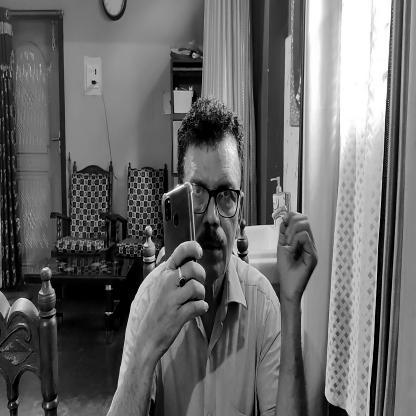Normal: (183, 102, 248, 281)
